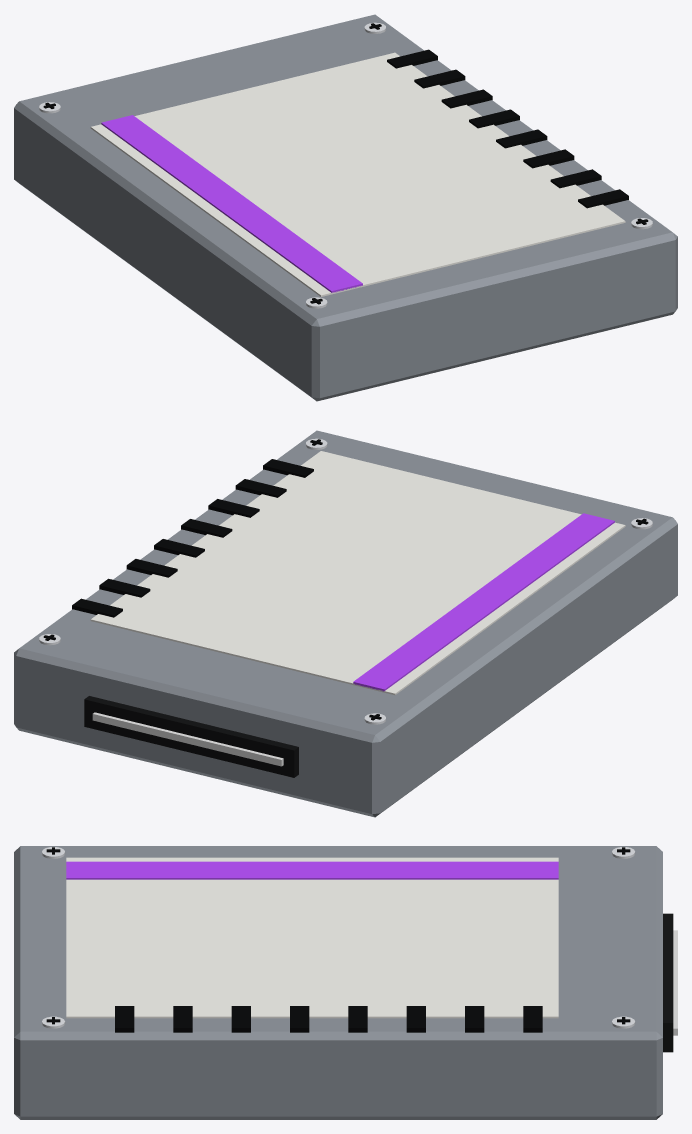
File: hw_sto_sas_600gb_15k.glb
3 renders of one model, top to bottom at view 1: azimuth 30°, elevation 25°; view 2: azimuth 150°, elevation 25°; view 3: azimuth 270°, elevation 25°, orthographic. The views are drawn at different scales.
Parts seen in each view (by area): view 1: Body; view 2: Body; view 3: Body.
Boxes of the visible parts, x1,y1,x2,y2 form: Body: (14, 14, 677, 401); Body: (14, 430, 677, 817); Body: (14, 846, 677, 1119).
Size of the model in its own units: 0.0698 by 0.0157 by 0.1025.
